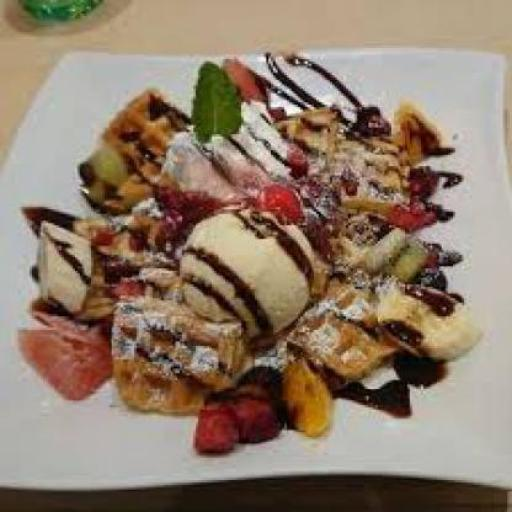biodegradable: (287, 88, 453, 222), (104, 269, 238, 409), (154, 103, 312, 205), (185, 214, 316, 335), (77, 91, 186, 209), (346, 271, 474, 359), (7, 303, 116, 405), (29, 214, 114, 323), (296, 310, 377, 380), (80, 205, 176, 259), (212, 376, 284, 444), (280, 348, 332, 434), (337, 225, 421, 278), (186, 59, 240, 137), (157, 182, 232, 234), (237, 173, 316, 218), (196, 406, 241, 457), (221, 55, 266, 98), (274, 139, 316, 182)
